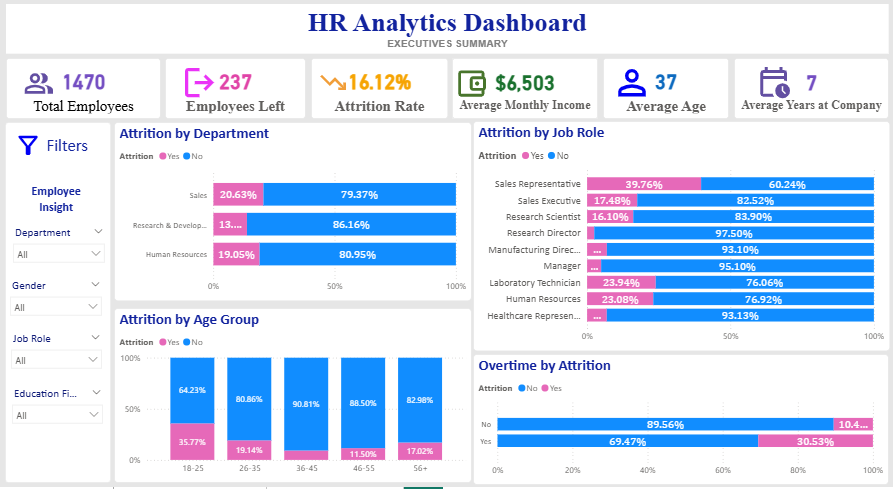

The page's visual inventory and layout, read from the dashboard file:
{"tool":"powerbi","page":{"name":"Executives Summary","canvas":[1280,720],"ordinal":0},"visuals":[{"type":"card","fields":{"Values":["WA_Fn-UseC_-HR-Employee-Attriti.Total Employees"]},"box":[12.9,84.3,221.4,87.1],"z":0},{"type":"card","fields":{"Values":["WA_Fn-UseC_-HR-Employee-Attriti.Employees Left"]},"box":[240,84.3,201.4,87.1],"z":1000},{"type":"card","fields":{"Values":["WA_Fn-UseC_-HR-Employee-Attriti.Attrition Rate"]},"box":[448.6,84.3,195.7,87.1],"z":2000},{"type":"card","fields":{"Values":["WA_Fn-UseC_-HR-Employee-Attriti.Average Years at Company"]},"box":[1052.9,84.3,221.4,87.1],"z":3000},{"type":"card","fields":{"Values":["WA_Fn-UseC_-HR-Employee-Attriti.Average Monthly Income"]},"box":[650,84.3,208.6,87.1],"z":4000},{"type":"card","fields":{"Values":["WA_Fn-UseC_-HR-Employee-Attriti.Average Age"]},"box":[865.7,84.3,180,87.1],"z":5000},{"type":"textbox","box":[12.9,7.1,1261.4,71.4],"z":6000},{"type":"hundredPercentStackedBarChart","title":"Attrition by Department","fields":{"Category":["WA_Fn-UseC_-HR-Employee-Attriti.Department"],"Y":["Sum(WA_Fn-UseC_-HR-Employee-Attriti.EmployeeCount)"],"Series":["WA_Fn-UseC_-HR-Employee-Attriti.Attrition"]},"box":[167.1,175.7,511.4,268.6],"z":7000},{"type":"hundredPercentStackedBarChart","title":"Attrition by Job Role","fields":{"Series":["WA_Fn-UseC_-HR-Employee-Attriti.Attrition"],"Category":["WA_Fn-UseC_-HR-Employee-Attriti.JobRole"],"Y":["Sum(WA_Fn-UseC_-HR-Employee-Attriti.EmployeeCount)"]},"box":[680,174.3,595.7,328.6],"z":8000},{"type":"shape","box":[11.4,175.7,151.4,515.7],"z":9000},{"type":"textbox","box":[12.2,700,150,497.3],"z":10000},{"type":"textbox","box":[65.7,188.6,91.4,41.4],"z":11000},{"type":"slicer","fields":{"Values":["WA_Fn-UseC_-HR-Employee-Attriti.Department"]},"box":[12.9,318.6,151.4,70],"z":12000},{"type":"slicer","fields":{"Values":["WA_Fn-UseC_-HR-Employee-Attriti.Gender"]},"box":[8.6,394.3,151.4,72.9],"z":13000},{"type":"slicer","fields":{"Values":["WA_Fn-UseC_-HR-Employee-Attriti.JobRole"]},"box":[10,470,150,65.7],"z":14000},{"type":"slicer","fields":{"Values":["WA_Fn-UseC_-HR-Employee-Attriti.EducationField"]},"box":[11.4,548.6,150,72.9],"z":15000},{"type":"hundredPercentStackedColumnChart","title":"Attrition by Age Group","fields":{"Series":["WA_Fn-UseC_-HR-Employee-Attriti.Attrition"],"Y":["Sum(WA_Fn-UseC_-HR-Employee-Attriti.EmployeeCount)"],"Category":["WA_Fn-UseC_-HR-Employee-Attriti.Age Group"]},"box":[167.1,454.3,511.4,245.7],"z":16000},{"type":"hundredPercentStackedBarChart","title":"Overtime by Attrition","fields":{"Category":["WA_Fn-UseC_-HR-Employee-Attriti.OverTime"],"Series":["WA_Fn-UseC_-HR-Employee-Attriti.Attrition"],"Y":["Sum(WA_Fn-UseC_-HR-Employee-Attriti.EmployeeCount)"]},"box":[680,507.1,594.3,192.9],"z":17000},{"type":"image","box":[35.7,98.6,48.6,44.3],"z":18000},{"type":"image","box":[457.1,97.1,45.7,44.3],"z":19000},{"type":"image","box":[255.7,91.4,67.1,55.7],"z":20000},{"type":"image","box":[638.6,95.7,78.6,50],"z":21000},{"type":"image","box":[858.6,90,97.1,58.6],"z":22000},{"type":"image","box":[1070,92.9,78.6,51.4],"z":23000},{"type":"actionButton","title":"Employee In","box":[25.7,247.1,122.9,71.4],"z":24000},{"type":"image","box":[22.9,188.6,42.9,41.4],"z":25000}]}

Visuals, with their boxes in screenshot pixels (x1, y1, x2, y2), scaled from the page's 1280x720 canvas onto the 893x489 screenshot:
card - WA_Fn-UseC_-HR-Employee-Attriti.Total Employees: <region>9, 57, 163, 116</region>
card - WA_Fn-UseC_-HR-Employee-Attriti.Employees Left: <region>167, 57, 308, 116</region>
card - WA_Fn-UseC_-HR-Employee-Attriti.Attrition Rate: <region>313, 57, 449, 116</region>
card - WA_Fn-UseC_-HR-Employee-Attriti.Average Years at Company: <region>735, 57, 889, 116</region>
card - WA_Fn-UseC_-HR-Employee-Attriti.Average Monthly Income: <region>453, 57, 599, 116</region>
card - WA_Fn-UseC_-HR-Employee-Attriti.Average Age: <region>604, 57, 730, 116</region>
textbox: <region>9, 5, 889, 53</region>
"Attrition by Department" hundredPercentStackedBarChart: <region>117, 119, 473, 302</region>
"Attrition by Job Role" hundredPercentStackedBarChart: <region>474, 118, 890, 342</region>
shape: <region>8, 119, 114, 470</region>
textbox: <region>9, 475, 113, 488</region>
textbox: <region>46, 128, 110, 156</region>
slicer - WA_Fn-UseC_-HR-Employee-Attriti.Department: <region>9, 216, 115, 264</region>
slicer - WA_Fn-UseC_-HR-Employee-Attriti.Gender: <region>6, 268, 112, 317</region>
slicer - WA_Fn-UseC_-HR-Employee-Attriti.JobRole: <region>7, 319, 112, 364</region>
slicer - WA_Fn-UseC_-HR-Employee-Attriti.EducationField: <region>8, 373, 113, 422</region>
"Attrition by Age Group" hundredPercentStackedColumnChart: <region>117, 309, 473, 475</region>
"Overtime by Attrition" hundredPercentStackedBarChart: <region>474, 344, 889, 475</region>
image: <region>25, 67, 59, 97</region>
image: <region>319, 66, 351, 96</region>
image: <region>178, 62, 225, 100</region>
image: <region>446, 65, 500, 99</region>
image: <region>599, 61, 667, 101</region>
image: <region>746, 63, 801, 98</region>
"Employee In" actionButton: <region>18, 168, 104, 216</region>
image: <region>16, 128, 46, 156</region>
